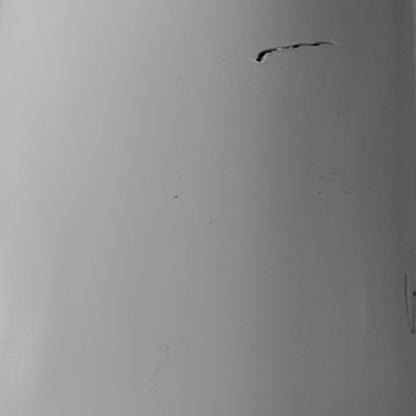fengxi: (256, 39, 338, 66), (402, 274, 416, 335)
